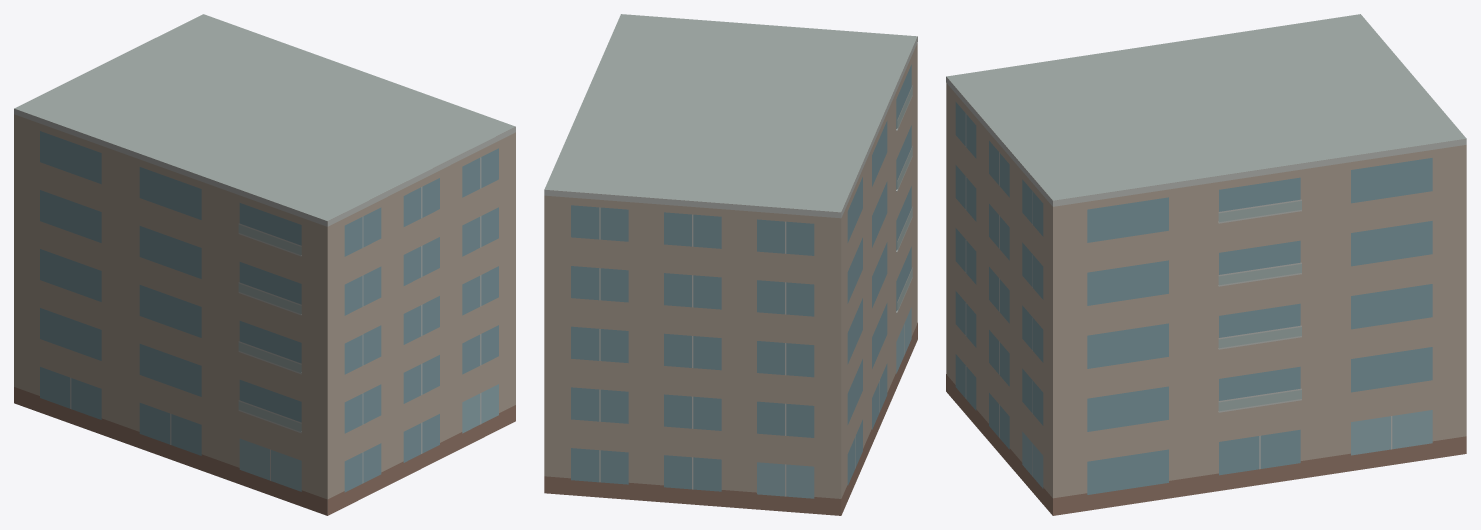
File: survey-upis-32988195.glb
The picture shows the model from 3 angles, left to right: view 1: azimuth 30°, elevation 25°; view 2: azimuth 150°, elevation 25°; view 3: azimuth 270°, elevation 25°; orthographic projection. The views are drawn at different scales.
Parts seen in each view (by area): view 1: survey-upis-32988195.tmp; view 2: survey-upis-32988195.tmp; view 3: survey-upis-32988195.tmp.
Part boxes in pixels (bbox=[...]): survey-upis-32988195.tmp: bbox=[14, 14, 515, 515]; survey-upis-32988195.tmp: bbox=[544, 14, 917, 515]; survey-upis-32988195.tmp: bbox=[946, 14, 1466, 515].
Bounding box in the file's own units: 16.02 × 12.6 × 18.87.
